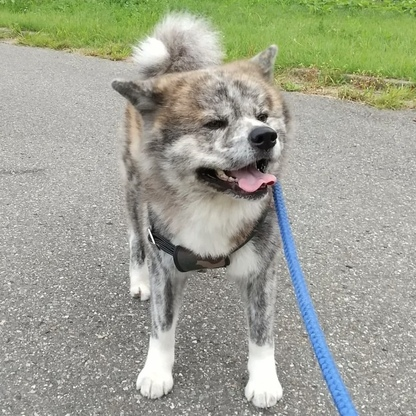akita: (105, 3, 304, 416)
